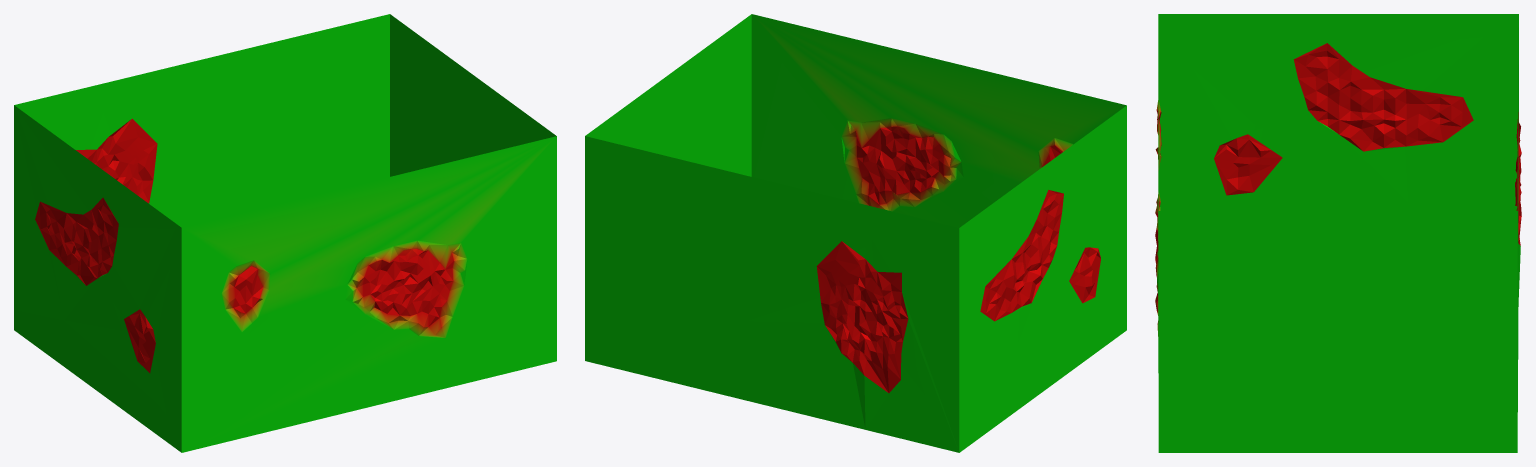
The model's file is BuildingMiddleDam_03.fbx.
3 renders of one model, left to right at view 1: azimuth 30°, elevation 25°; view 2: azimuth 150°, elevation 25°; view 3: azimuth 270°, elevation 25°, orthographic. The views are drawn at different scales.
Visible parts, largest first — view 1: Building3_Middel.001; view 2: Building3_Middel.001; view 3: Building3_Middel.001.
Boxes of the visible parts, x1=… form: Building3_Middel.001: x1=14, y1=14, x2=556, y2=452; Building3_Middel.001: x1=585, y1=14, x2=1126, y2=452; Building3_Middel.001: x1=1155, y1=14, x2=1521, y2=452.
Bounding box in the file's own units: 527 × 300 × 412.
